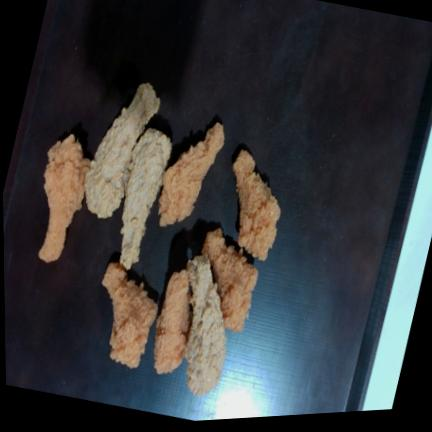chicken: (85, 83, 160, 218), (120, 128, 171, 268), (159, 122, 224, 226), (38, 133, 90, 262), (102, 262, 157, 368), (202, 228, 258, 331), (185, 255, 226, 395), (233, 149, 280, 260), (154, 269, 190, 373)
